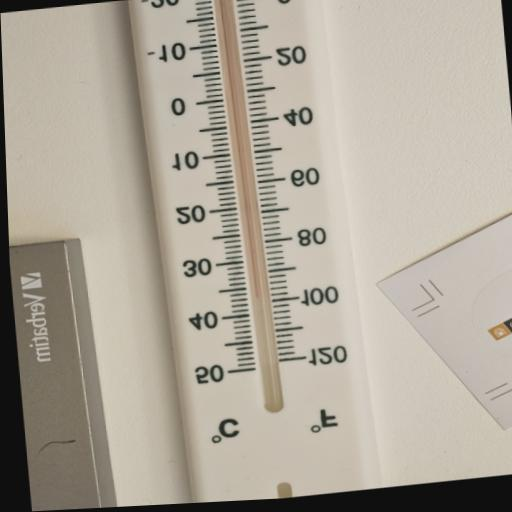thermometer: (123, 0, 383, 506)
